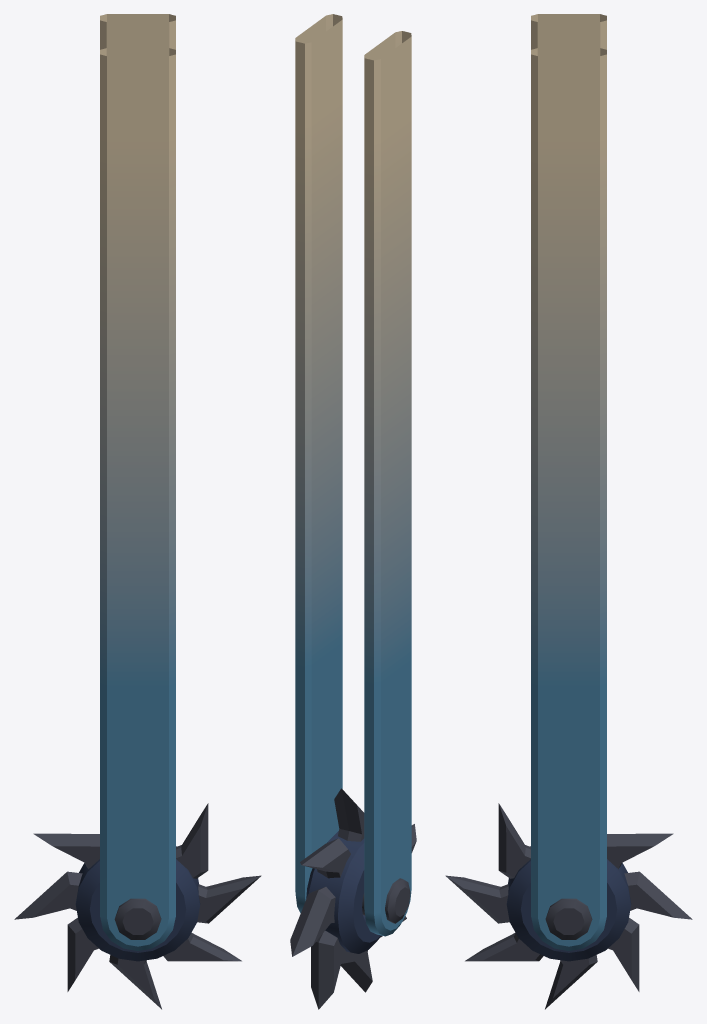
The model's file is SawBlade.glb.
3 views of the same model, side by side, from view 1: azimuth 90°, elevation 25°; view 2: azimuth 150°, elevation 25°; view 3: azimuth 270°, elevation 25° (orthographic).
Parts seen in each view (by area): view 1: Arm, Saw; view 2: Arm, Saw; view 3: Arm, Saw.
Part boxes in pixels (x1,y1,x2,y2): Arm: (100, 14, 175, 950); Saw: (14, 803, 261, 1009); Arm: (295, 14, 411, 936); Saw: (290, 788, 416, 1009); Arm: (531, 14, 606, 950); Saw: (445, 803, 692, 1009).
Bounding box in the file's own units: 2.38 × 22.35 × 5.15.
Materials: 1 (1 with a texture image).
